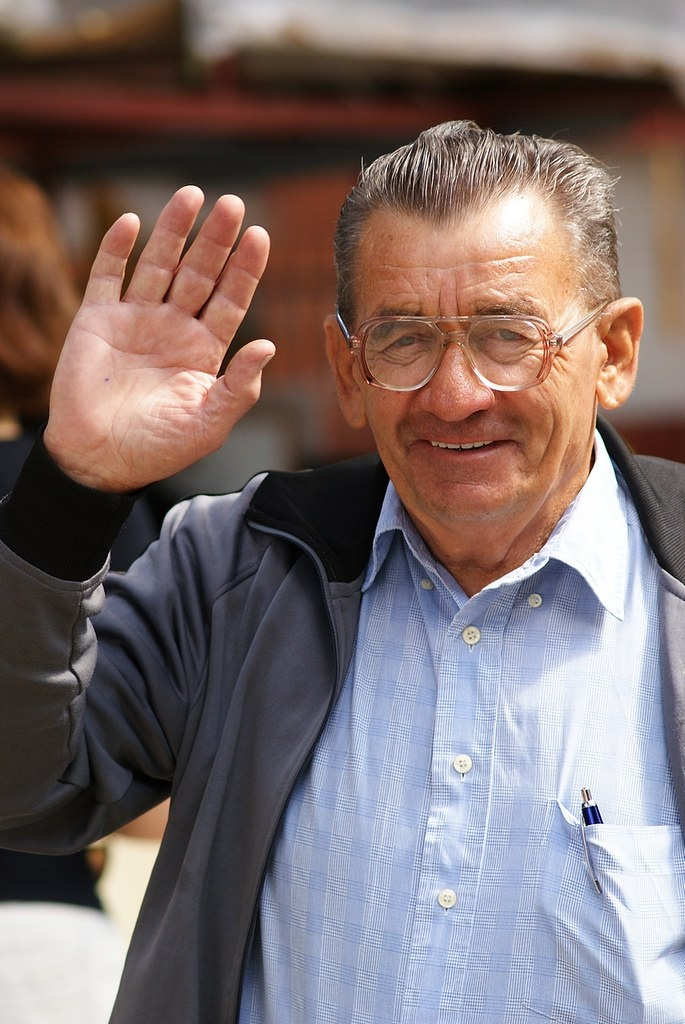without_mask: (339, 182, 634, 530)
